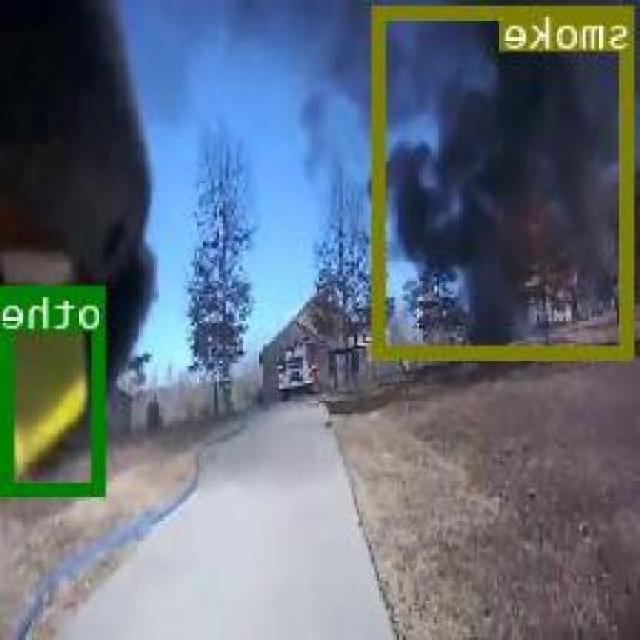Smoke: (376, 2, 636, 356)
